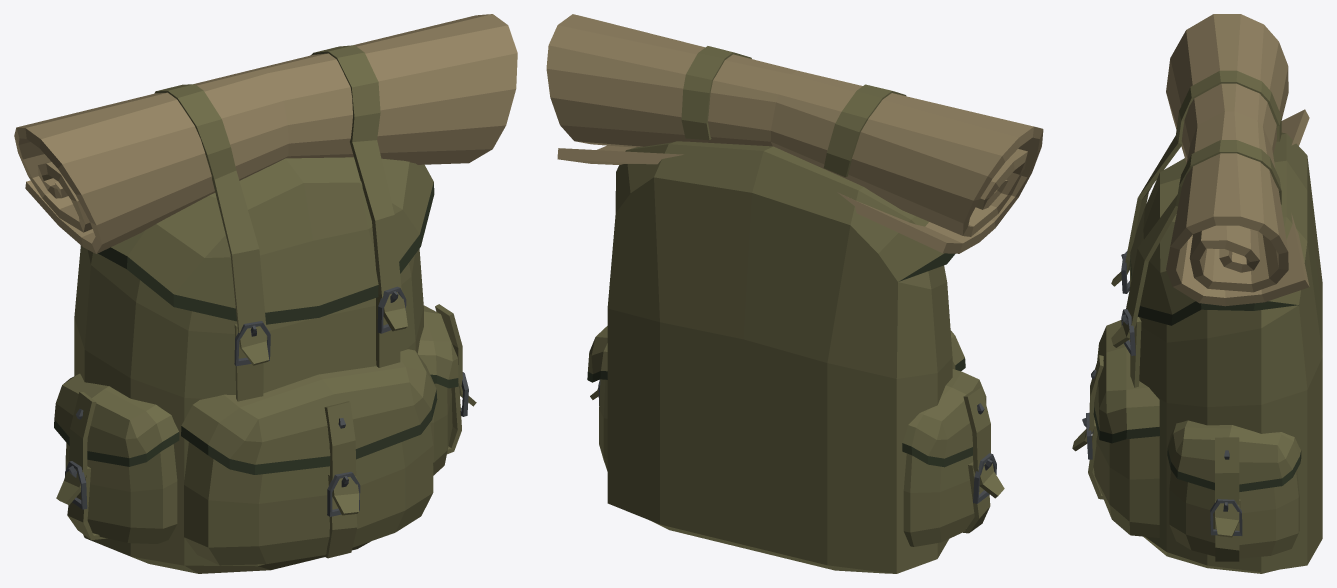
The model's file is pack1.glb.
3 renders of one model, left to right at view 1: azimuth 30°, elevation 25°; view 2: azimuth 150°, elevation 25°; view 3: azimuth 270°, elevation 25°, orthographic. The views are drawn at different scales.
Visible parts, largest first — view 1: item_pack1; view 2: item_pack1; view 3: item_pack1.
Part boxes in pixels (x1,y1,x2,y2): item_pack1: (14, 14, 517, 573); item_pack1: (546, 14, 1043, 573); item_pack1: (1072, 14, 1322, 573).
Bounding box in the file's own units: 0.4501 × 0.42 × 0.235.
